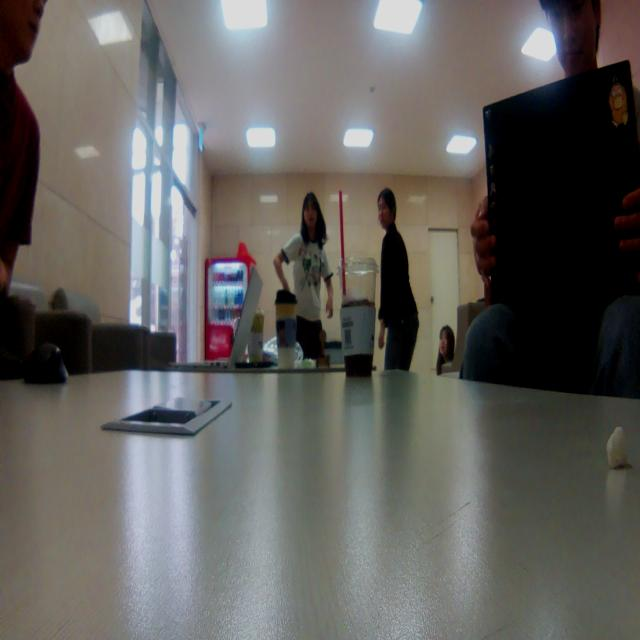target: (316, 329, 330, 368)
